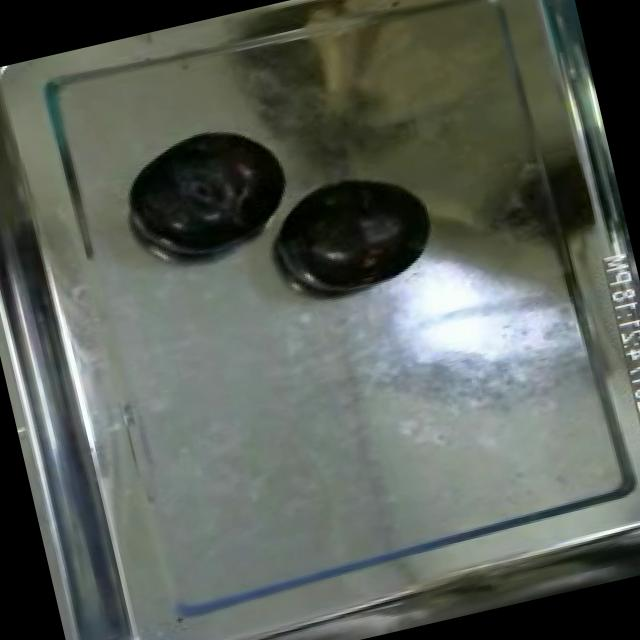Fruit: (117, 112, 306, 272), (267, 154, 448, 306)
